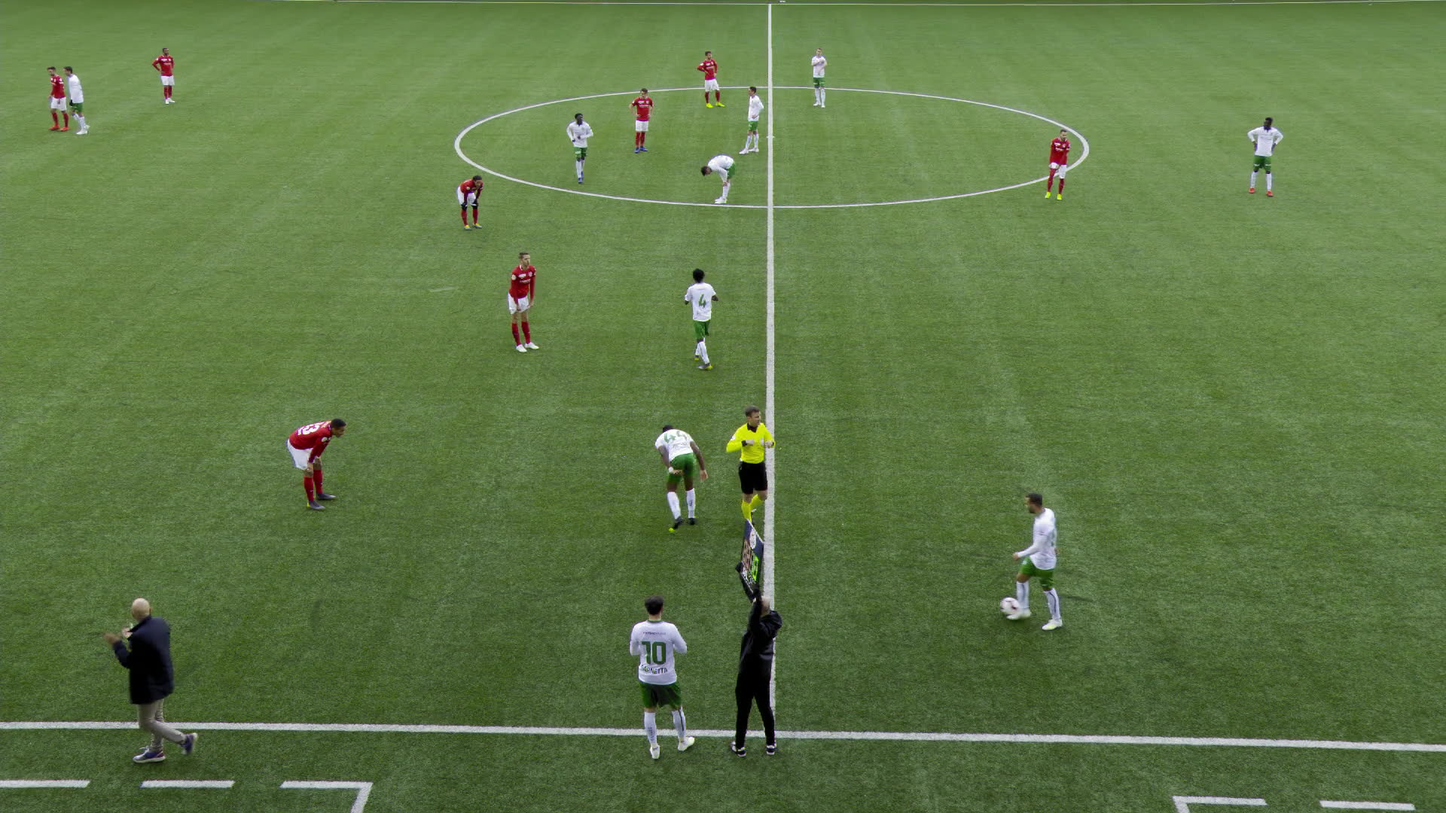ball: (1007, 597, 1028, 620)
player: (627, 594, 695, 763), (1008, 492, 1069, 632), (651, 425, 709, 537), (283, 415, 346, 513), (681, 266, 718, 372), (503, 250, 540, 353), (1243, 115, 1283, 197), (63, 65, 95, 135), (1041, 128, 1069, 202), (563, 112, 593, 181), (626, 87, 655, 154), (698, 153, 736, 204), (737, 85, 764, 155), (694, 50, 725, 109), (44, 64, 70, 132), (455, 173, 484, 231), (150, 46, 177, 105), (810, 47, 828, 109)
referee: (723, 402, 778, 531)
